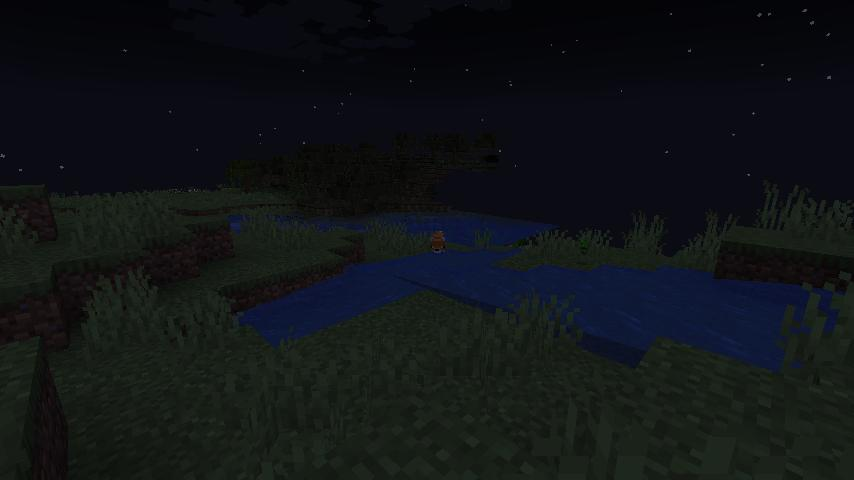fox: (429, 230, 448, 255)
